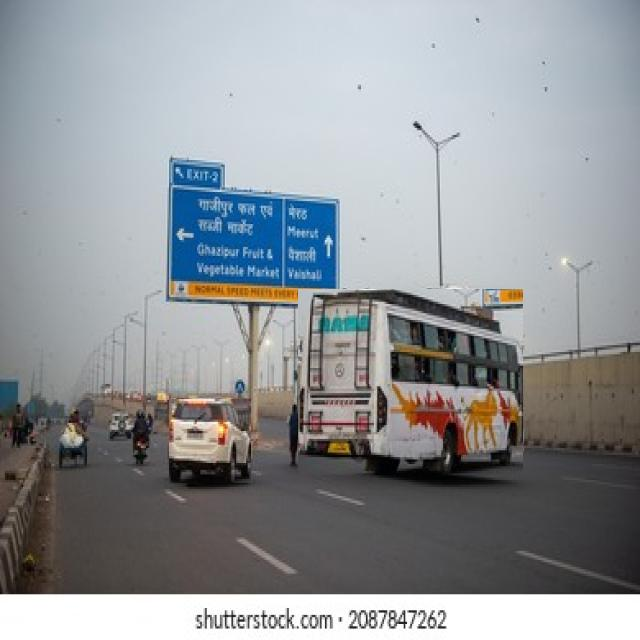bus: (299, 289, 523, 475)
car: (169, 399, 251, 483)
